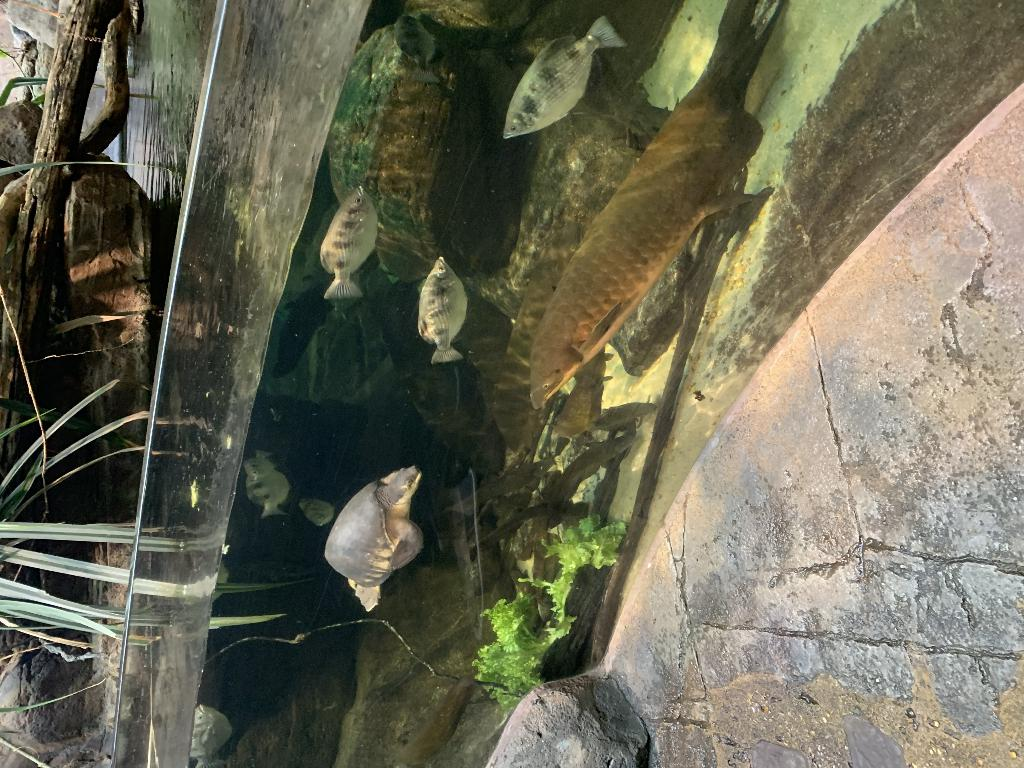fish: (524, 1, 774, 415), (502, 16, 628, 138), (316, 184, 378, 300), (417, 254, 471, 364), (244, 453, 290, 519)
